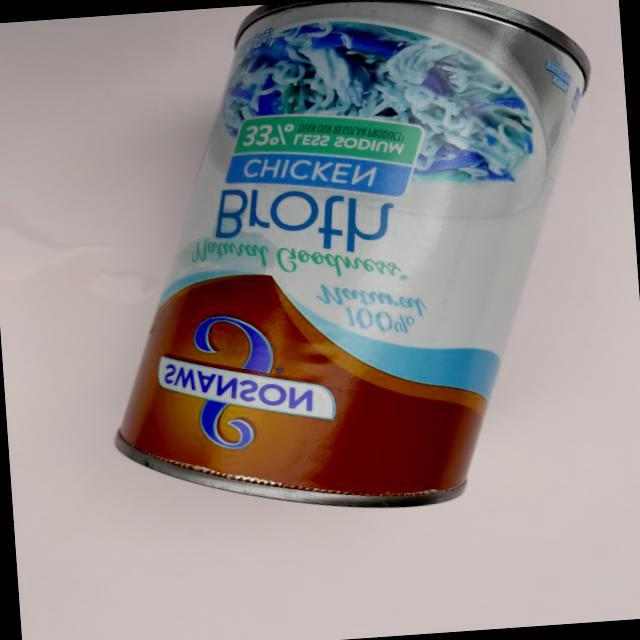metal: (64, 0, 638, 549)
